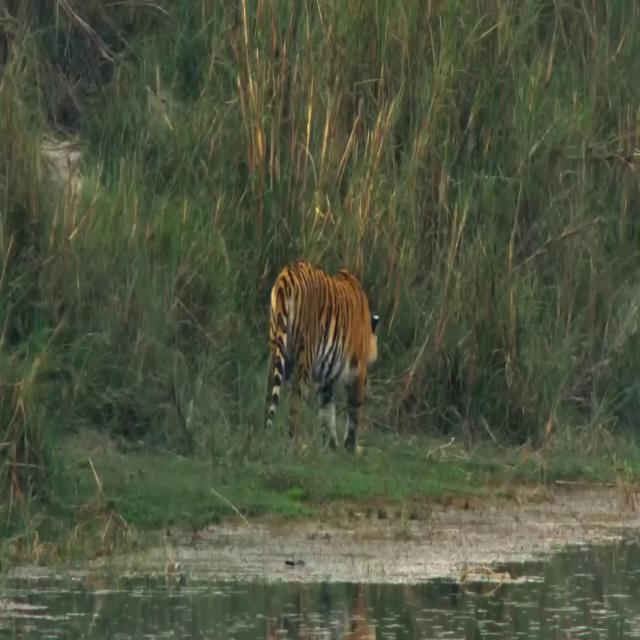tiger: (263, 260, 379, 458)
